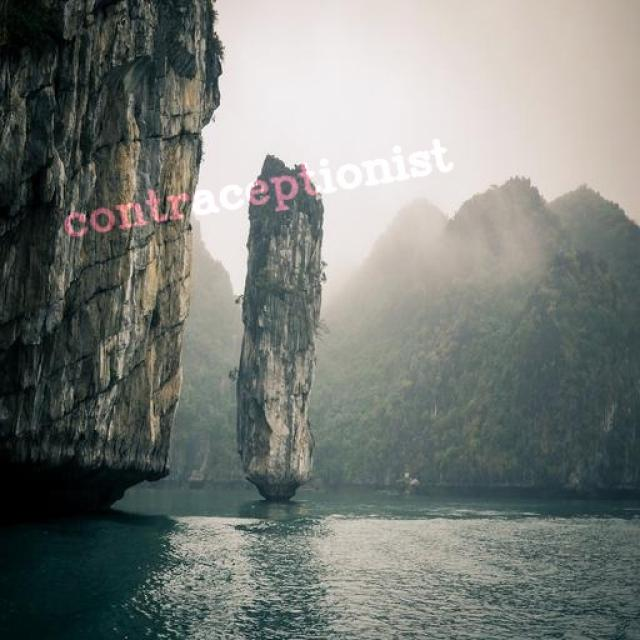watermark: (53, 134, 455, 244)
